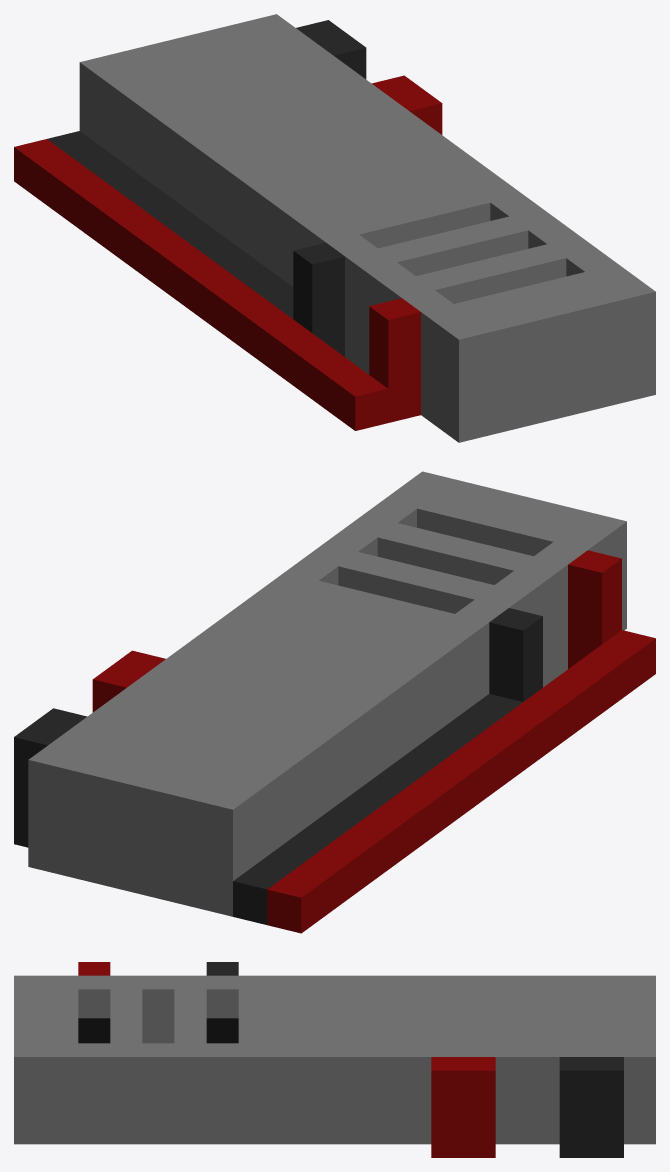
The model's file is BatteryVoxel.obj.
3 renders of one model, top to bottom at view 1: azimuth 30°, elevation 25°; view 2: azimuth 150°, elevation 25°; view 3: azimuth 270°, elevation 25°, orthographic. The views are drawn at different scales.
Bounding box in the file's own units: 0.9 × 0.3 × 2.
Materials: 1 (1 with a texture image).
